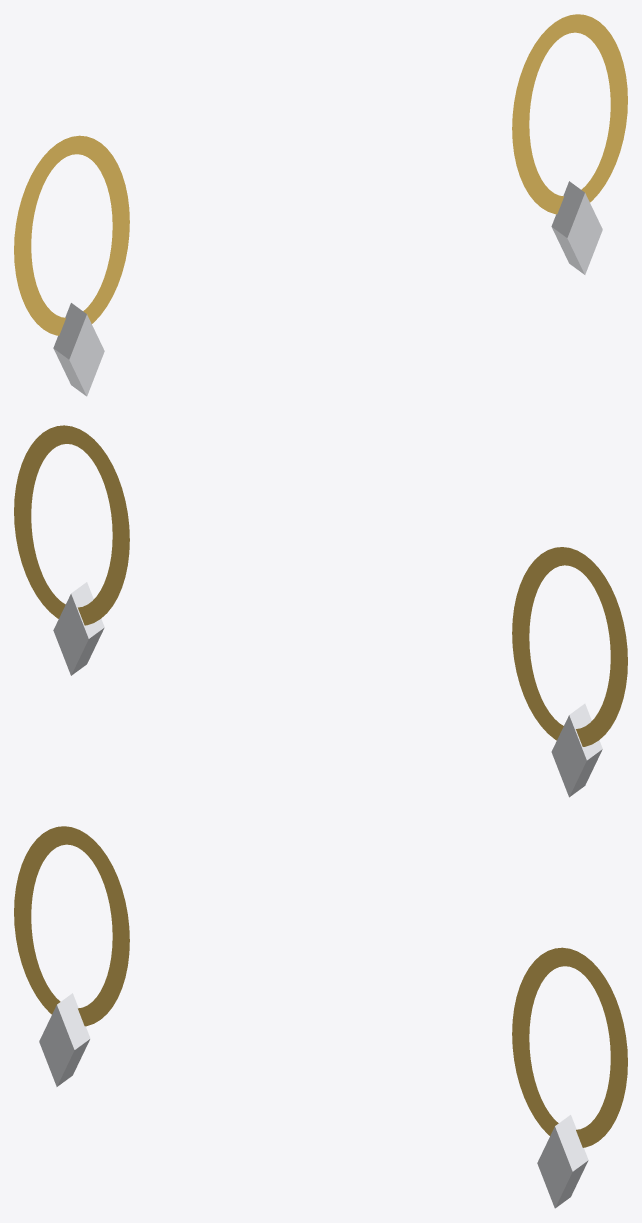
The model's file is golden-earrings.glb.
3 views of the same model, one above another, from view 1: azimuth 30°, elevation 25°; view 2: azimuth 150°, elevation 25°; view 3: azimuth 330°, elevation 25° (orthographic).
Parts seen in each view (by area): view 1: gold hoop (×2), pendant (×2); view 2: gold hoop (×2), pendant (×2); view 3: gold hoop (×2), pendant (×2).
Part boxes in pixels (x1=…): gold hoop (×2): x1=14, y1=14, x2=627, y2=335; pendant (×2): x1=53, y1=181, x2=602, y2=396; gold hoop (×2): x1=14, y1=425, x2=627, y2=746; pendant (×2): x1=53, y1=582, x2=602, y2=797; gold hoop (×2): x1=14, y1=826, x2=627, y2=1147; pendant (×2): x1=39, y1=993, x2=588, y2=1208.
Size of the model in its own units: 2.49 by 0.965 by 0.112.
